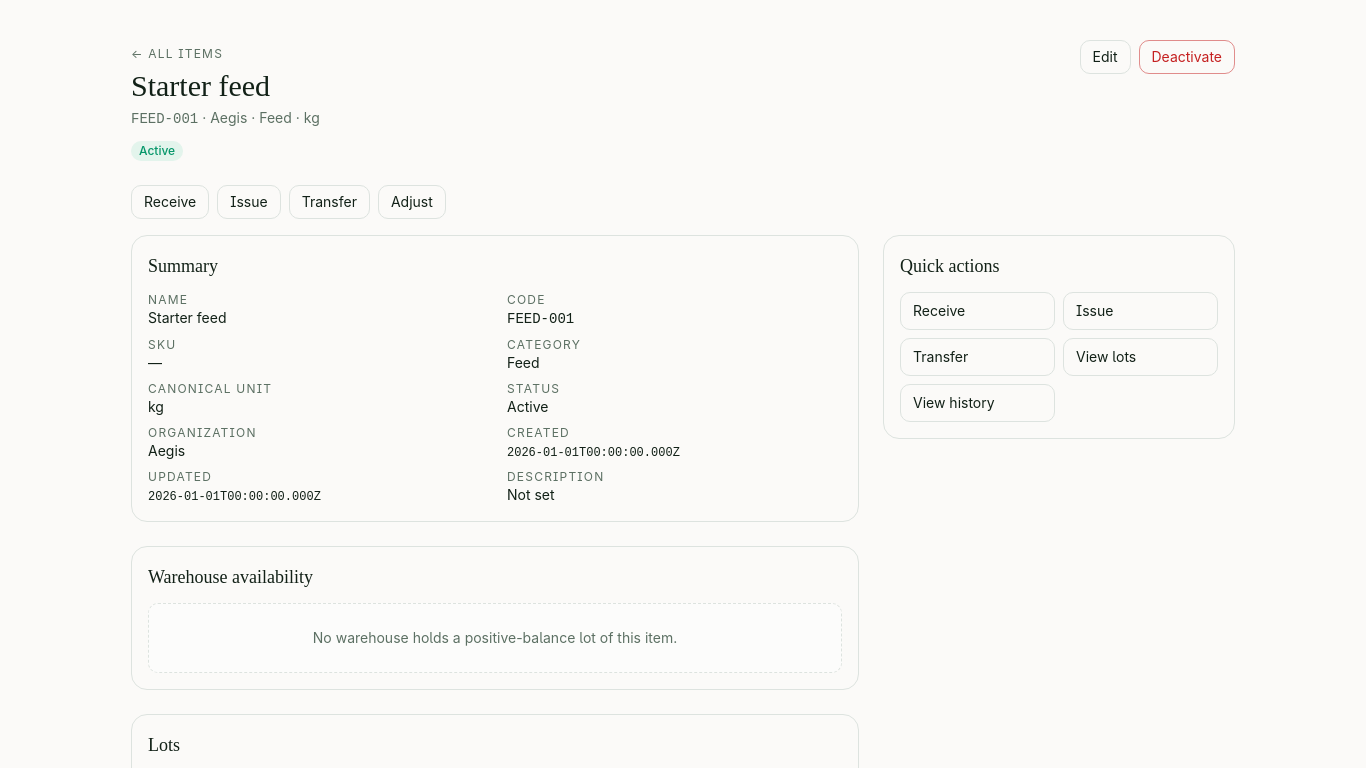
Test case: StockOperationDialog — API validation field mapping › maps lot_code to the visible Lot code field
Expected: the element with test id "item-detail-stock-actions" is shown, [131,185,446,219]
Click the button with test id "item-detail-stock-receive": coordinates (170, 202) [131,185,209,219]
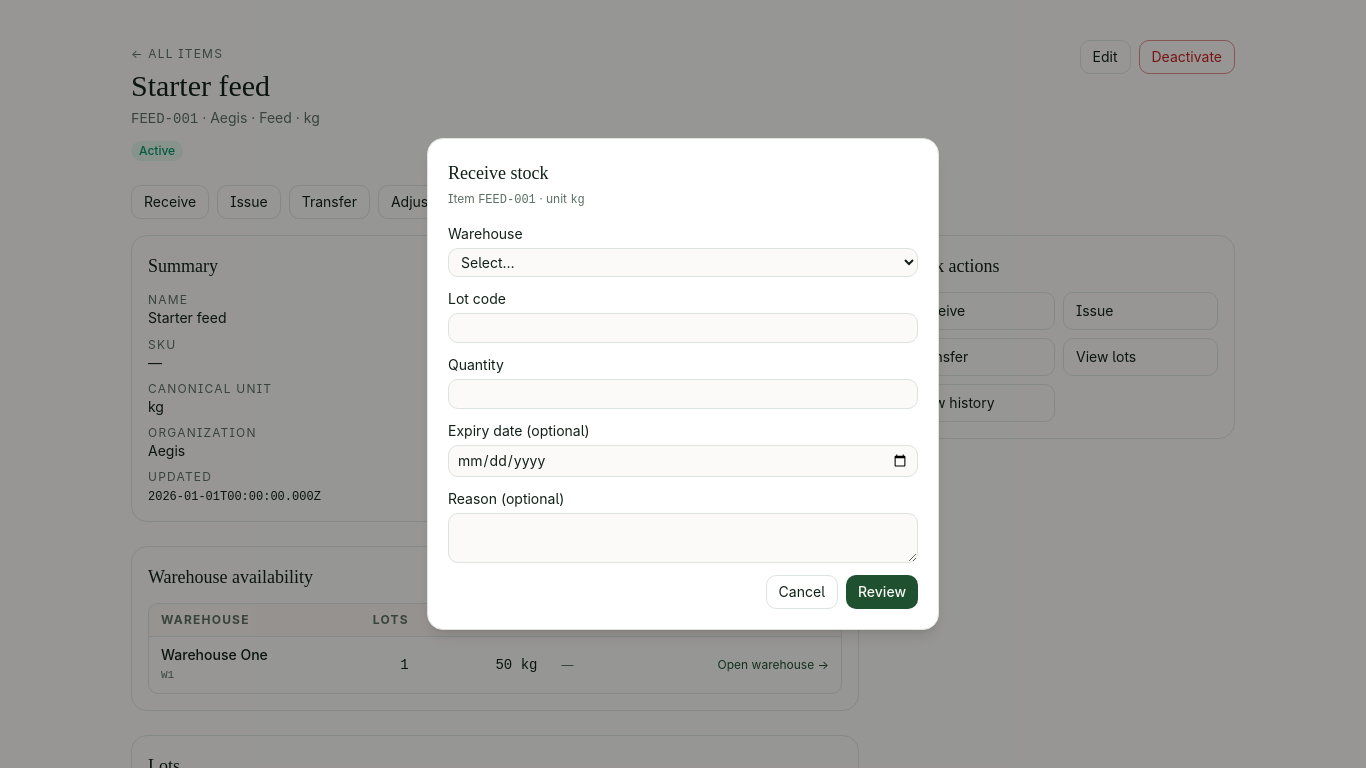
Select "Warehouse One" in the dropdown with test id "stock-op-receive-warehouse": coordinates (683, 262) [448,248,918,277]
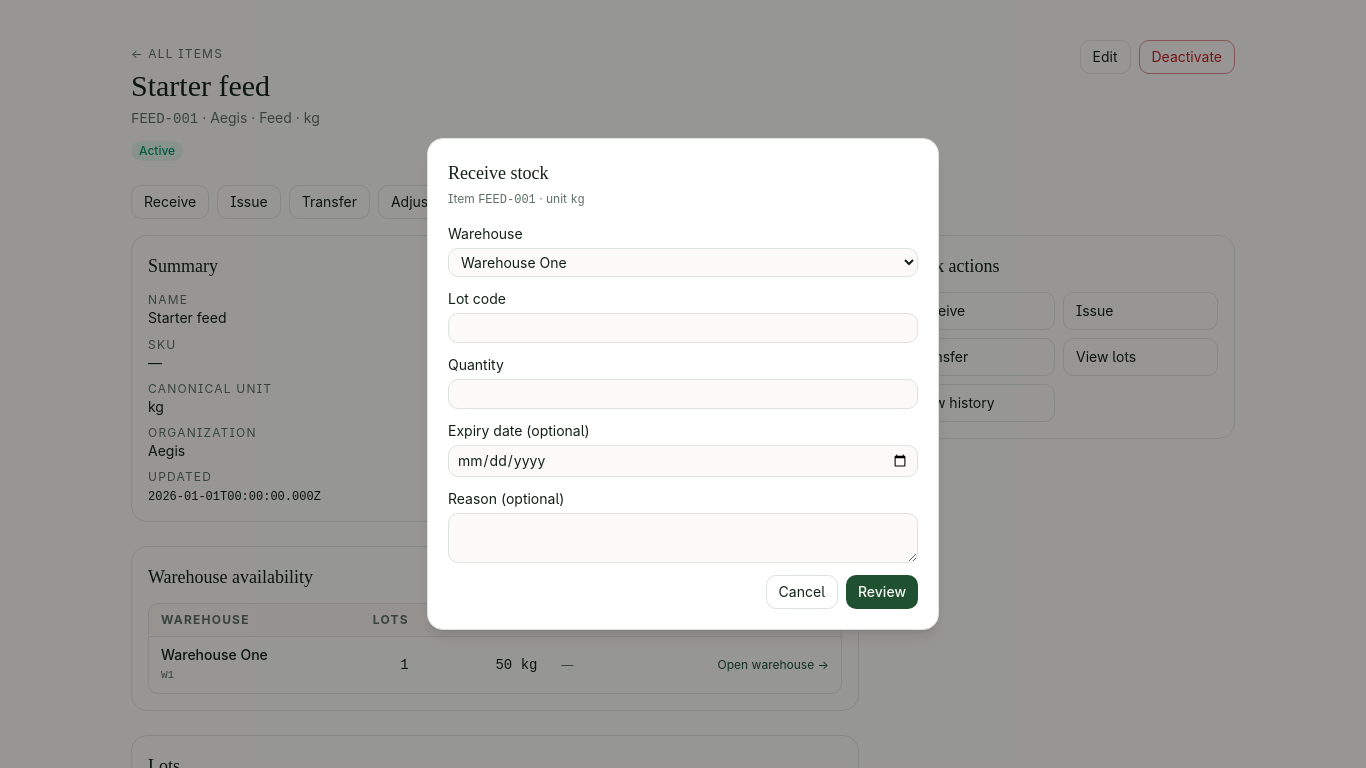
In the field with test id "stock-op-receive-lot-code": coordinates (683, 328) [448,313,918,343], type "LOT-XYZ"
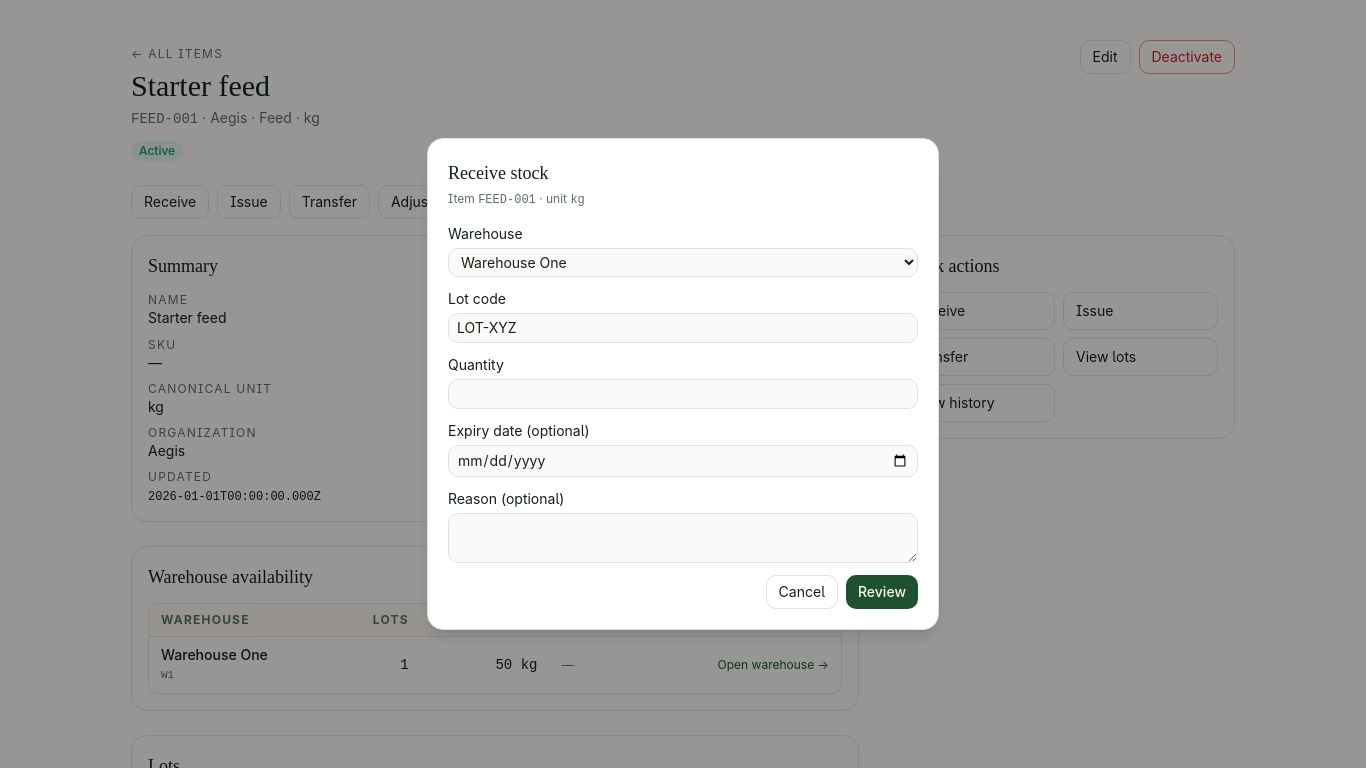
In the number field with test id "stock-op-receive-quantity": coordinates (683, 394) [448,379,918,409], type "5"
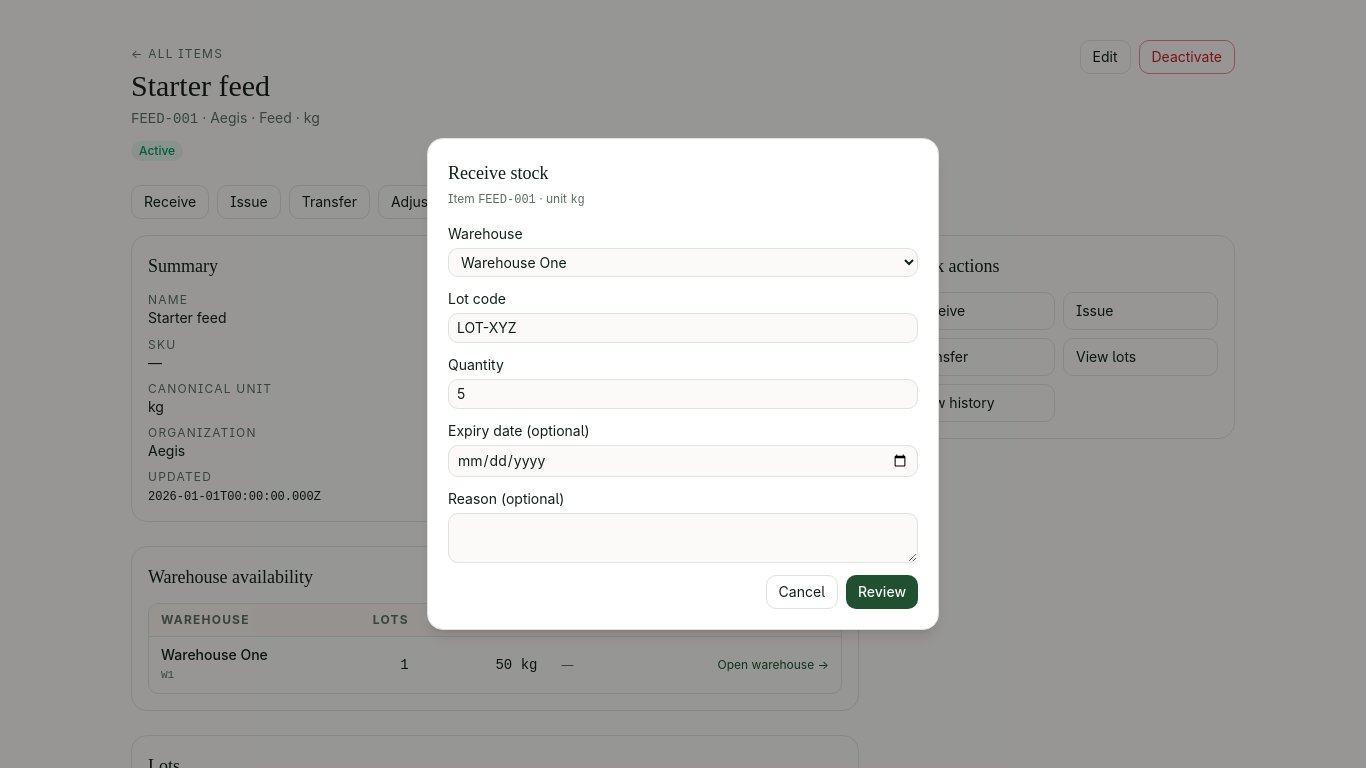
Click the button with test id "stock-op-receive-submit": coordinates (882, 592) [846,575,918,609]
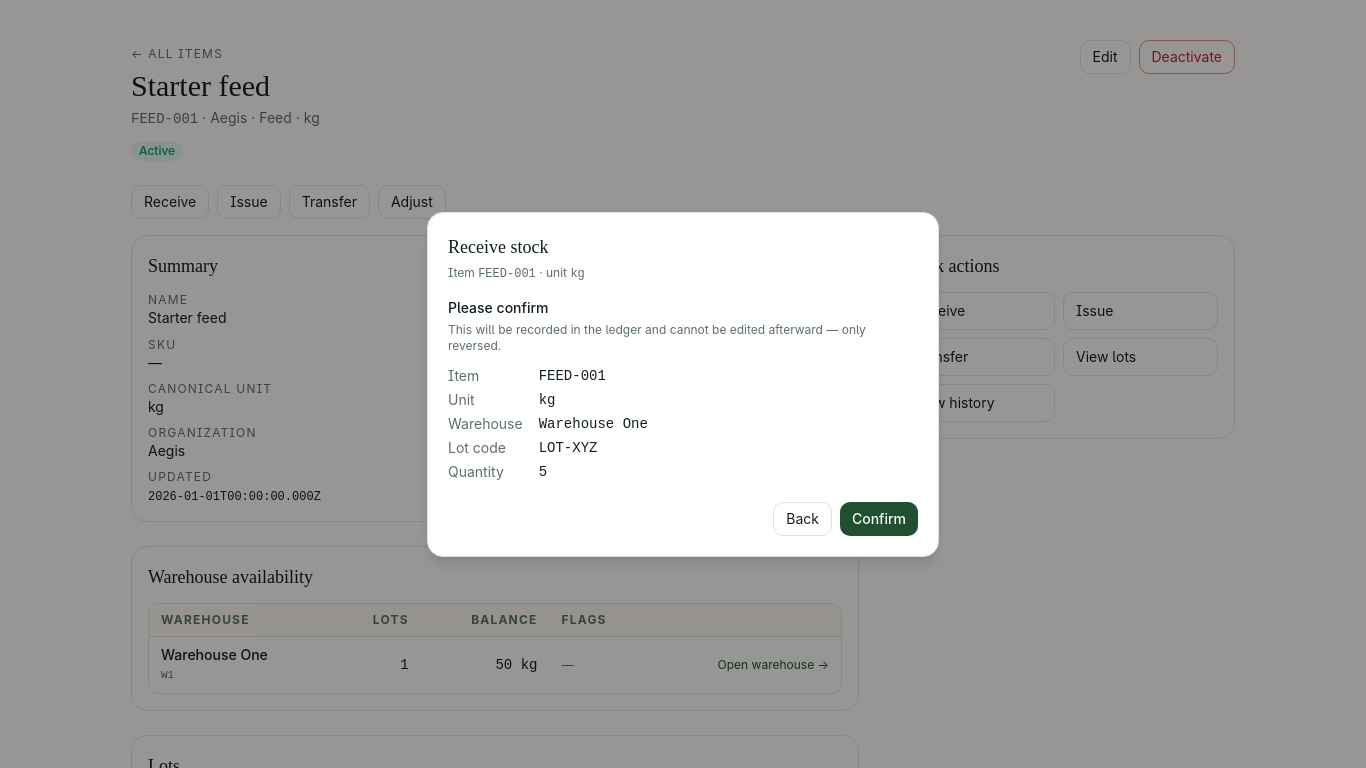
Now the button with test id "stock-op-receive-confirm" is shown
Click the button with test id "stock-op-receive-confirm": coordinates (879, 518) [840,502,918,536]
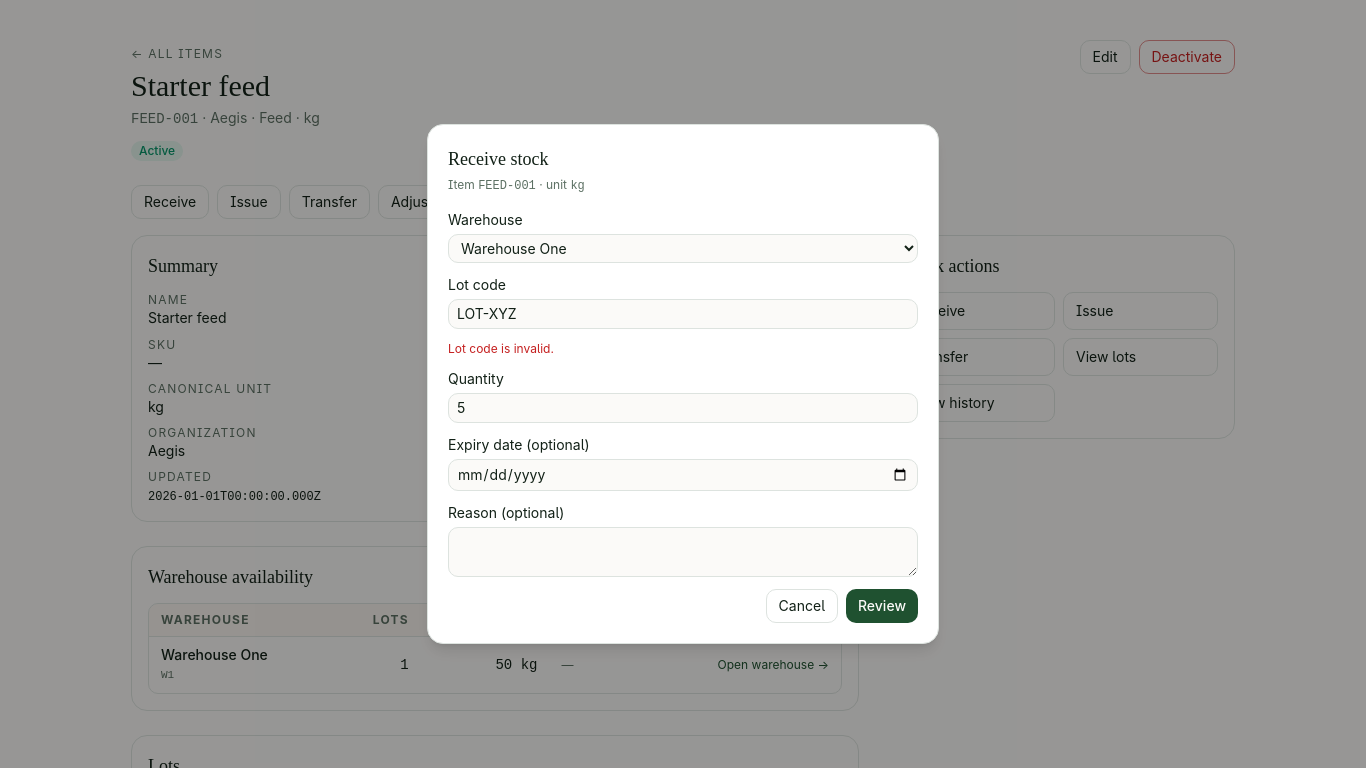
Now the message with test id "stock-op-receive-lot-code-error" reads "Lot code is invalid.", box [448,341,554,356]
